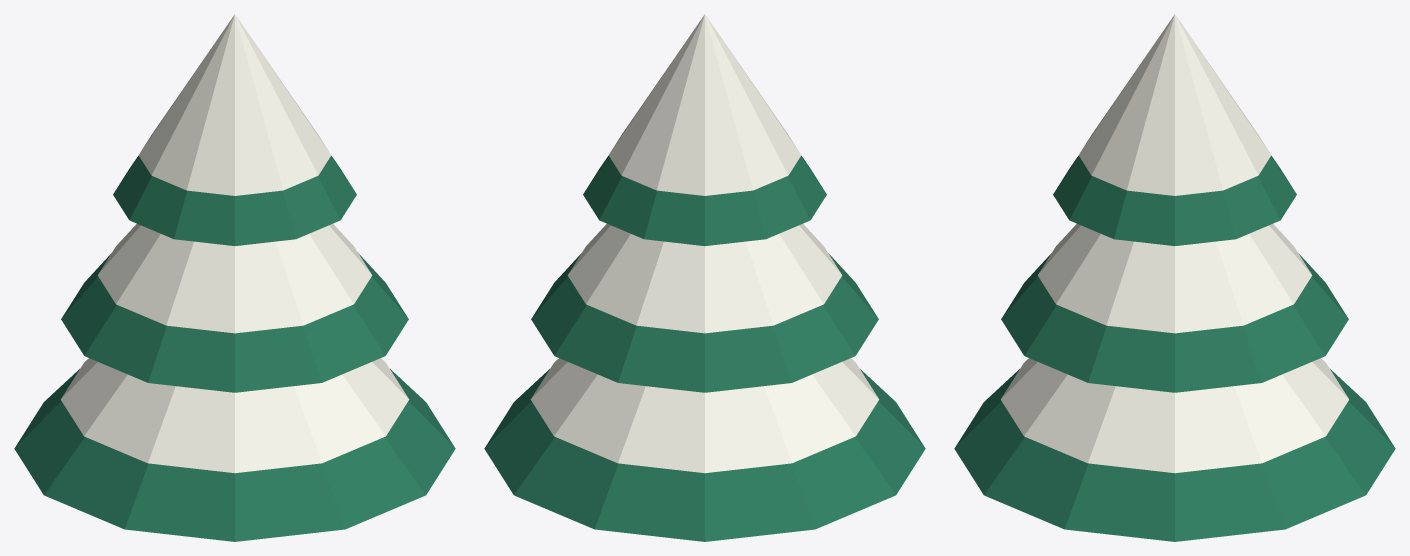
Rendered from three-d-christmas-village-christmas-village-snowy-fir-66683c07.glb.
3 renders of one model, left to right at view 1: azimuth 30°, elevation 25°; view 2: azimuth 150°, elevation 25°; view 3: azimuth 270°, elevation 25°, orthographic.
Visible parts, largest first — view 1: snowy-fir; view 2: snowy-fir; view 3: snowy-fir.
Boxes of the visible parts, x1,y1,x2,y2 form: snowy-fir: (14, 14, 455, 541); snowy-fir: (484, 14, 925, 541); snowy-fir: (954, 14, 1395, 541).
Bounding box in the file's own units: 1.7 × 2.15 × 1.7.
